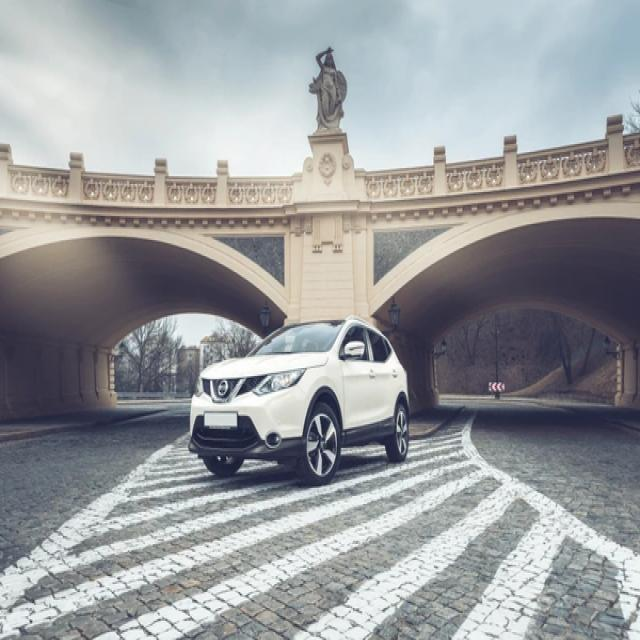nissan: (214, 377, 232, 399)
